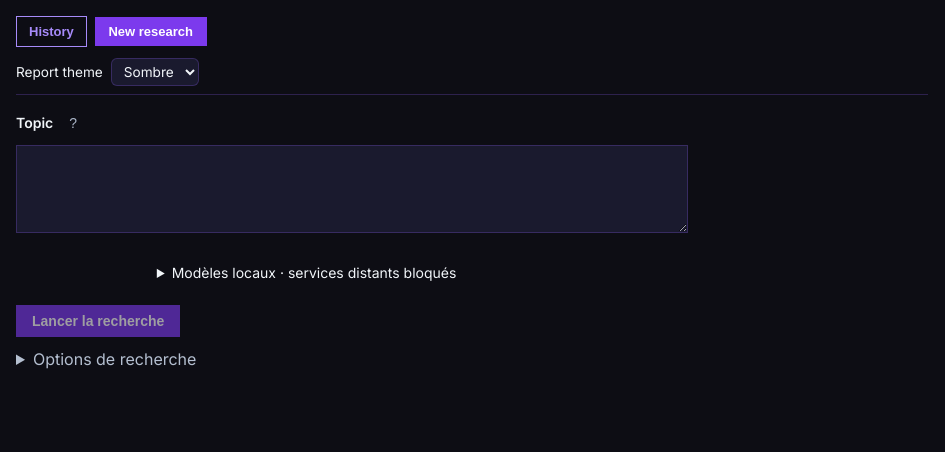
Test: DeepResearchPanel › shows the unconsulted-citation diagnostic and blocks report export
This screenshot has width=945, height=452.
Type "Une recherche avec une citation non consultée" into the text box at (352, 189), box [16, 145, 688, 233]
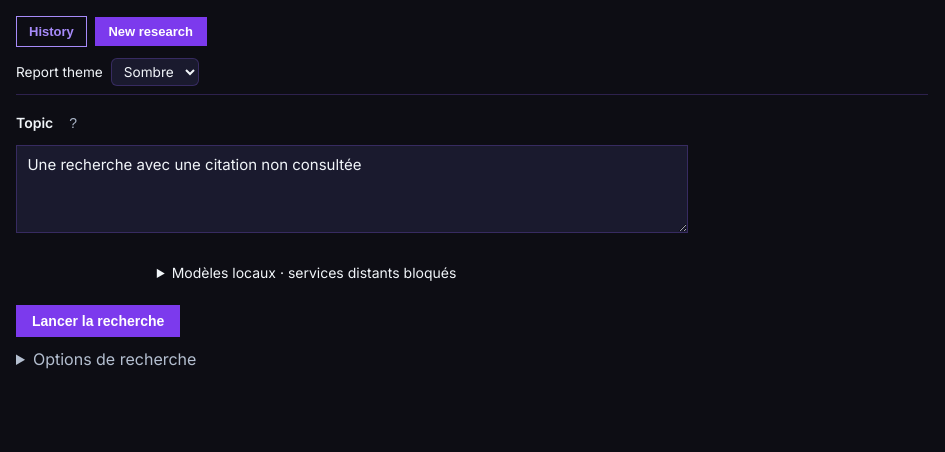
Click the button "Lancer la recherche" at (98, 320), box [16, 304, 180, 336]
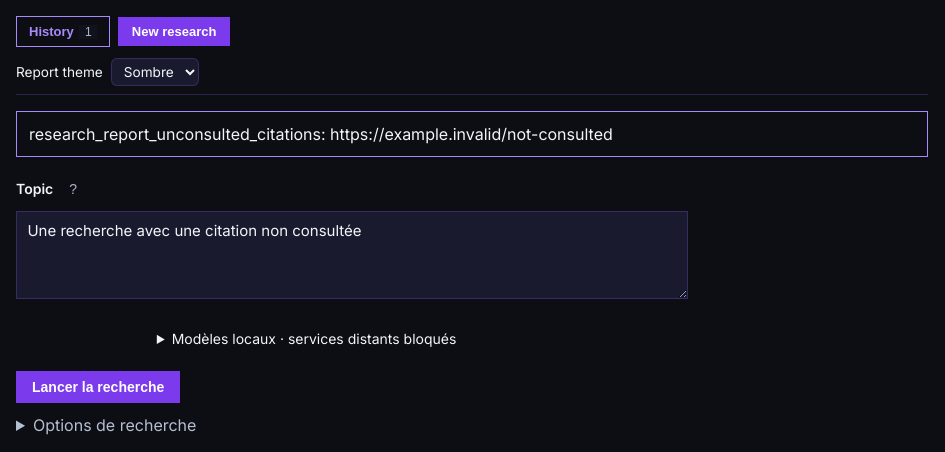
Expected: the message reads "research_report_unconsulted_citations: https://example.invalid/not-consulted", [29, 124, 613, 144]
